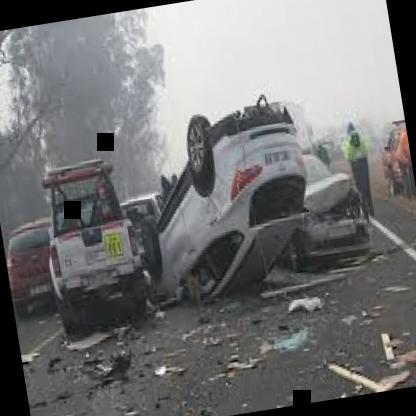accident: (20, 76, 400, 360)
